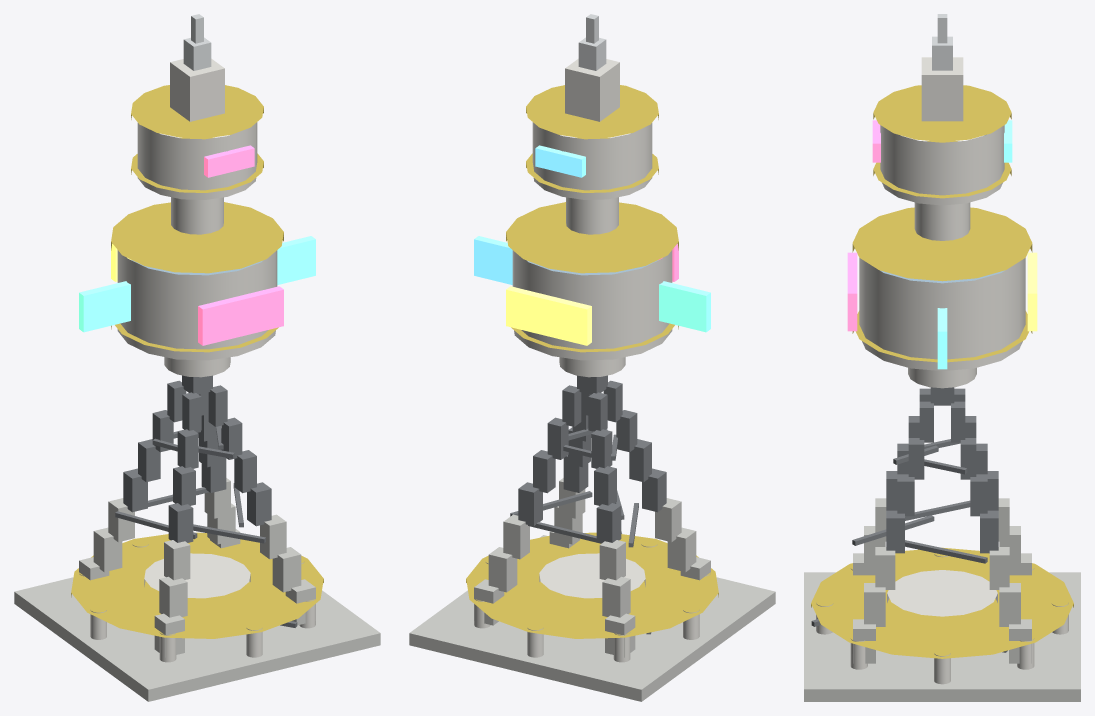
3 renders of one model, left to right at view 1: azimuth 30°, elevation 25°; view 2: azimuth 150°, elevation 25°; view 3: azimuth 270°, elevation 25°, orthographic. The views are drawn at different scales.
Visible parts, largest first — view 1: base_platform, arcade_ring, mid_deck_body, mid_deck_ring_hi, upper_obs_body, upper_obs_top, neon_sign_1, spire_base, base_inner, neon_sign_4, shaft_upper, neon_sign_2 (+28 smaller); view 2: base_platform, arcade_ring, mid_deck_body, mid_deck_ring_hi, upper_obs_body, upper_obs_top, neon_sign_3, spire_base, base_inner, neon_sign_4, shaft_upper, neon_sign_2 (+28 smaller); view 3: base_platform, arcade_ring, mid_deck_body, mid_deck_ring_hi, upper_obs_body, upper_obs_top, base_inner, spire_base, shaft_upper, shaft_lower, mid_deck_ring_lo, leg_1_7 (+28 smaller).
Part boxes in pixels (box(x1,y1,x2,y2)): base_platform: box(14, 577, 380, 701); arcade_ring: box(71, 532, 323, 638); mid_deck_body: box(117, 250, 277, 360); mid_deck_ring_hi: box(111, 202, 283, 273); upper_obs_body: box(137, 122, 257, 199); upper_obs_top: box(131, 85, 263, 138); neon_sign_1: box(198, 286, 283, 345); spire_base: box(170, 58, 224, 121); base_inner: box(144, 553, 250, 598); neon_sign_4: box(79, 281, 130, 332); shaft_upper: box(171, 197, 223, 234); neon_sign_2: box(277, 236, 315, 284); base_platform: box(409, 535, 775, 701); arcade_ring: box(466, 532, 718, 638); mid_deck_body: box(512, 250, 672, 360); mid_deck_ring_hi: box(506, 202, 678, 273); upper_obs_body: box(532, 122, 652, 199); upper_obs_top: box(526, 85, 658, 138); neon_sign_3: box(506, 286, 591, 345); spire_base: box(565, 58, 619, 121); base_inner: box(539, 553, 645, 598); neon_sign_4: box(659, 281, 710, 332); shaft_upper: box(566, 197, 618, 234); neon_sign_2: box(474, 236, 512, 284); base_platform: box(804, 572, 1080, 701); arcade_ring: box(811, 547, 1073, 658); mid_deck_body: box(859, 258, 1025, 370); mid_deck_ring_hi: box(852, 207, 1032, 281); upper_obs_body: box(880, 125, 1004, 205); upper_obs_top: box(873, 85, 1011, 141); base_inner: box(887, 570, 997, 616); spire_base: box(921, 57, 963, 121); shaft_upper: box(914, 202, 970, 240); shaft_lower: box(908, 368, 976, 388); mid_deck_ring_lo: box(852, 311, 1032, 362); leg_1_7: box(864, 583, 885, 626).
Size of the model in its own units: 80 by 200 by 80.
